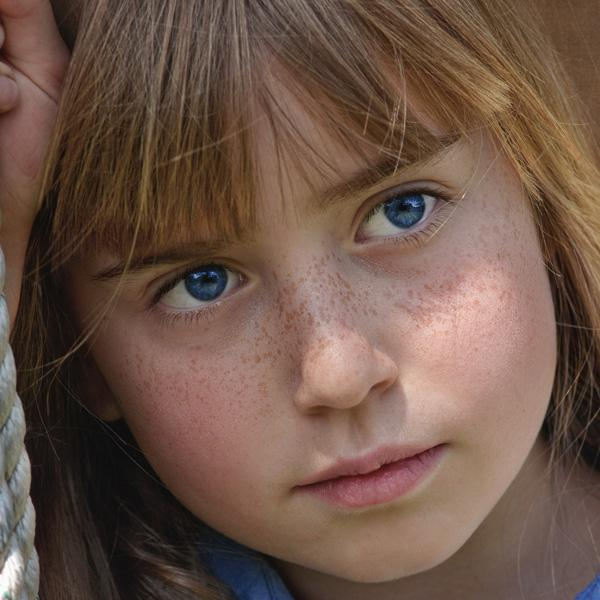Eyes: (130, 246, 265, 335), (344, 163, 461, 262)
